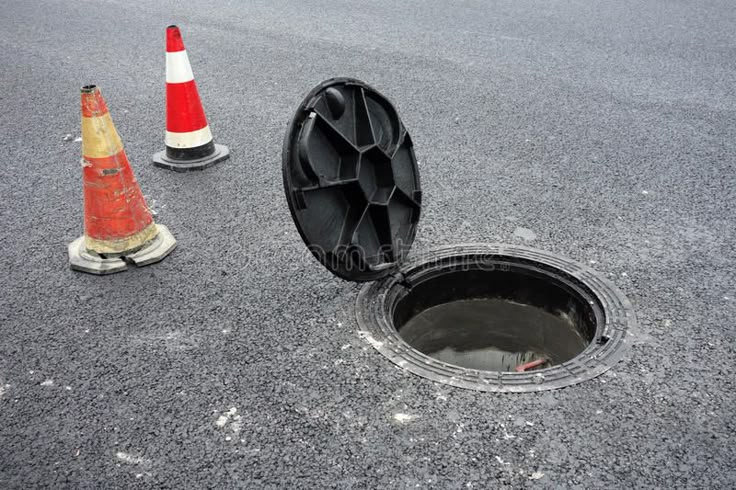Open_manhole: (269, 68, 641, 400)
Road_cone: (57, 78, 176, 288), (145, 20, 224, 171)
